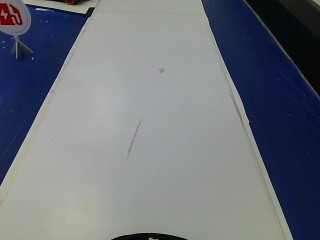battery: (0, 0, 30, 36)
